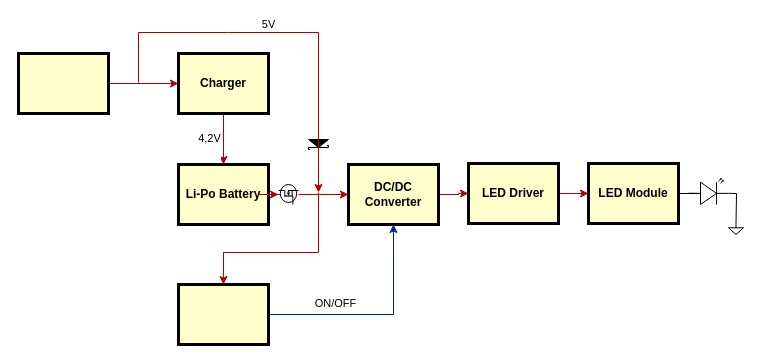
Some shapes in this 761 by 363 pixel diagram are drawn without their labels. The centre of each missing label's shape, as x and y in pixels:
5V USB: point 63,83
Touch sensor: point 223,314
